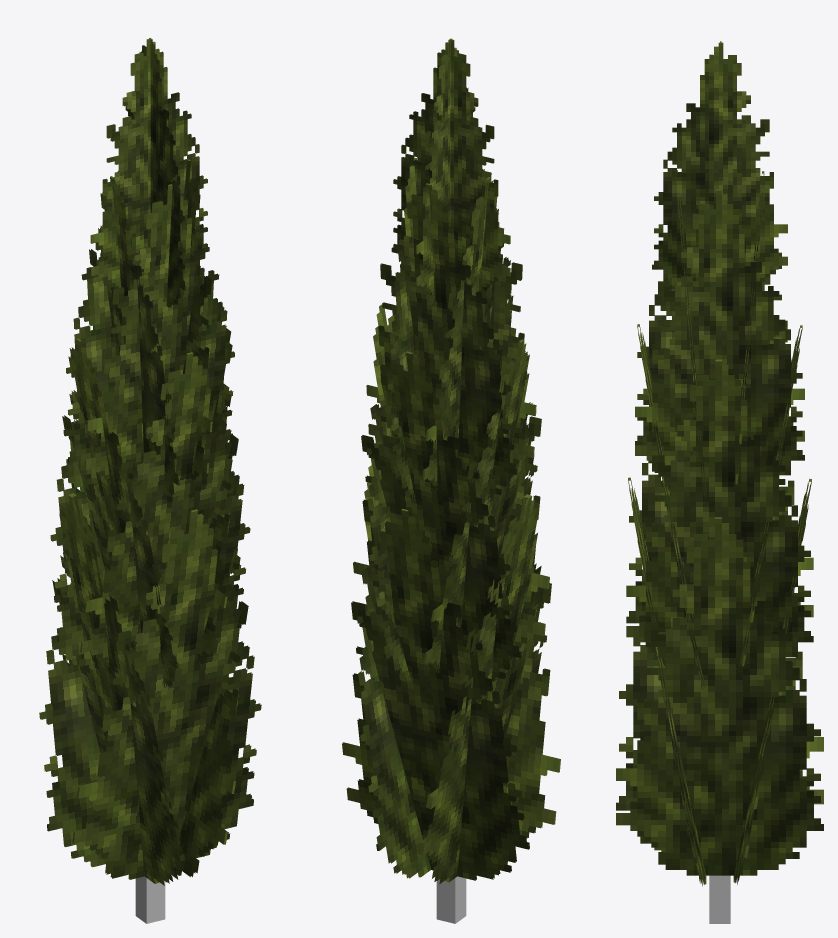
File: cypress_pot.obj
3 renders of one model, left to right at view 1: azimuth 30°, elevation 25°; view 2: azimuth 150°, elevation 25°; view 3: azimuth 270°, elevation 25°, orthographic.
Visible parts, largest first — view 1: Leaves.001_Plane.033, Leaves.005_Plane.037, Leaves.009_Plane.041, Leaves.002_Plane.034, Leaves.012_Plane.044, Leaves.006_Plane.038, Leaves_Plane.031, Leaves.003_Plane.035, Leaves.010_Plane.042, Leaves.013_Plane.045, Leaves.008_Plane.040, Leaves.004_Plane.036 (+3 smaller); view 2: Leaves_Plane.031, Leaves.004_Plane.036, Leaves.008_Plane.040, Leaves.002_Plane.034, Leaves.012_Plane.044, Leaves.003_Plane.035, Leaves.006_Plane.038, Leaves.001_Plane.033, Leaves.010_Plane.042, Leaves.007_Plane.039, Leaves.013_Plane.045, Leaves.011_Plane.043 (+3 smaller); view 3: Leaves.003_Plane.035, Leaves.007_Plane.039, Leaves.011_Plane.043, Leaves.013_Plane.045, Leaves.002_Plane.034, Leaves.006_Plane.038, Leaves.001_Plane.033, Leaves.010_Plane.042, Leaves_Plane.031, Leaves.005_Plane.037, Leaves.004_Plane.036, Trunk_Cube.004 (+2 smaller).
Boxes of the visible parts, left/top/right/bottom form: Leaves.001_Plane.033: left=72, top=509, right=261, bottom=879; Leaves.005_Plane.037: left=80, top=352, right=250, bottom=666; Leaves.009_Plane.041: left=84, top=184, right=234, bottom=496; Leaves.002_Plane.034: left=52, top=493, right=185, bottom=885; Leaves.012_Plane.044: left=90, top=38, right=209, bottom=287; Leaves.006_Plane.038: left=62, top=338, right=179, bottom=687; Leaves_Plane.031: left=39, top=587, right=112, bottom=867; Leaves.003_Plane.035: left=173, top=459, right=248, bottom=876; Leaves.010_Plane.042: left=89, top=176, right=179, bottom=503; Leaves.013_Plane.045: left=125, top=38, right=185, bottom=307; Leaves.008_Plane.040: left=66, top=170, right=118, bottom=487; Leaves.004_Plane.036: left=50, top=421, right=105, bottom=669; Leaves_Plane.031: left=342, top=508, right=529, bottom=880; Leaves.004_Plane.036: left=353, top=351, right=521, bottom=681; Leaves.008_Plane.040: left=366, top=183, right=517, bottom=497; Leaves.002_Plane.034: left=417, top=494, right=543, bottom=884; Leaves.012_Plane.044: left=391, top=39, right=510, bottom=298; Leaves.003_Plane.035: left=357, top=458, right=431, bottom=878; Leaves.006_Plane.038: left=423, top=339, right=535, bottom=672; Leaves.001_Plane.033: left=503, top=484, right=560, bottom=864; Leaves.010_Plane.042: left=422, top=177, right=513, bottom=489; Leaves.007_Plane.039: left=366, top=304, right=410, bottom=680; Leaves.013_Plane.045: left=416, top=38, right=484, bottom=306; Leaves.011_Plane.043: left=387, top=158, right=416, bottom=497; Leaves.003_Plane.035: left=616, top=517, right=823, bottom=875; Leaves.007_Plane.039: left=626, top=360, right=813, bottom=665; Leaves.011_Plane.043: left=635, top=189, right=804, bottom=489; Leaves.013_Plane.045: left=652, top=42, right=787, bottom=289; Leaves.002_Plane.034: left=616, top=587, right=823, bottom=851; Leaves.006_Plane.038: left=626, top=460, right=813, bottom=652; Leaves.001_Plane.033: left=628, top=477, right=706, bottom=886; Leaves.010_Plane.042: left=635, top=252, right=804, bottom=472; Leaves_Plane.031: left=733, top=478, right=811, bottom=884; Leaves.005_Plane.037: left=637, top=324, right=705, bottom=689; Leaves.004_Plane.036: left=737, top=325, right=802, bottom=673; Trunk_Cube.004: left=709, top=875, right=730, bottom=923.
Size of the model in its own units: 1.16 by 5.41 by 1.16.
